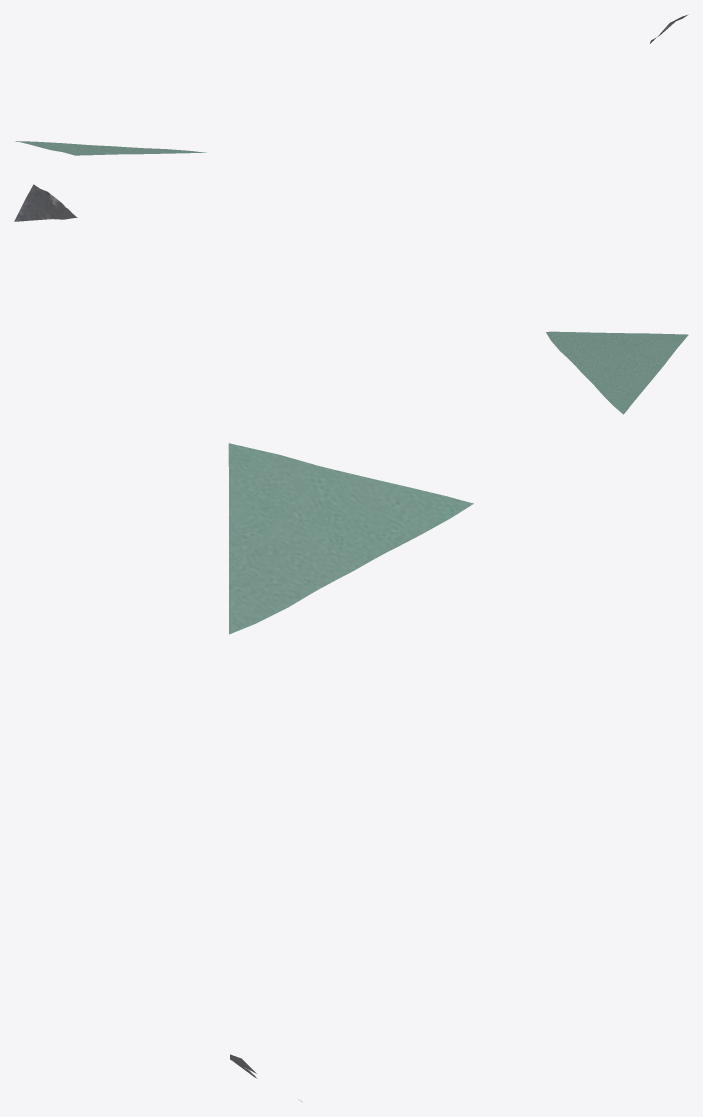
File: Tile_+008_+006_L19_00250.glb
The picture shows the model from 3 angles, top to bottom: view 1: azimuth 30°, elevation 25°; view 2: azimuth 150°, elevation 25°; view 3: azimuth 270°, elevation 25°; orthographic projection. The views are drawn at different scales.
Parts seen in each view (by area): view 1: rtc; view 2: rtc; view 3: rtc.
Part boxes in pixels (x1,y1,x2,y2): rtc: (15, 14, 688, 155); rtc: (14, 184, 688, 414); rtc: (228, 443, 473, 1101).
Size of the model in its own units: 49.32 by 2.32 by 8.54.
1 material, 1 textured.
